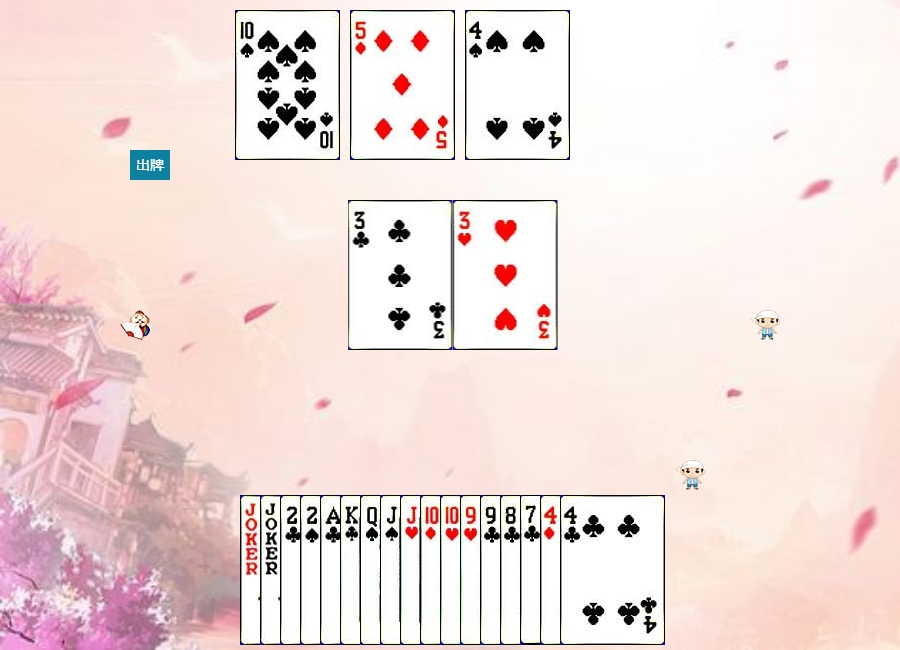10~1: (420, 495, 525, 645)
10~3: (440, 495, 545, 645)
10~4: (235, 10, 340, 160)
11~3: (400, 495, 505, 645)
11~4: (380, 495, 485, 645)
12~4: (360, 495, 465, 645)
13~2: (340, 495, 445, 645)
14~2: (320, 495, 425, 645)
15~2: (280, 495, 385, 645)
15~4: (300, 495, 405, 645)
17~3: (260, 495, 365, 645)
18~4: (240, 495, 345, 645)
3~2: (348, 200, 453, 350)
3~3: (453, 200, 558, 350)
4~1: (540, 495, 645, 645)
4~2: (560, 495, 665, 645)
4~4: (465, 10, 570, 160)
5~1: (350, 10, 455, 160)
7~2: (520, 495, 625, 645)
8~2: (500, 495, 605, 645)
9~2: (480, 495, 585, 645)
9~3: (460, 495, 565, 645)
